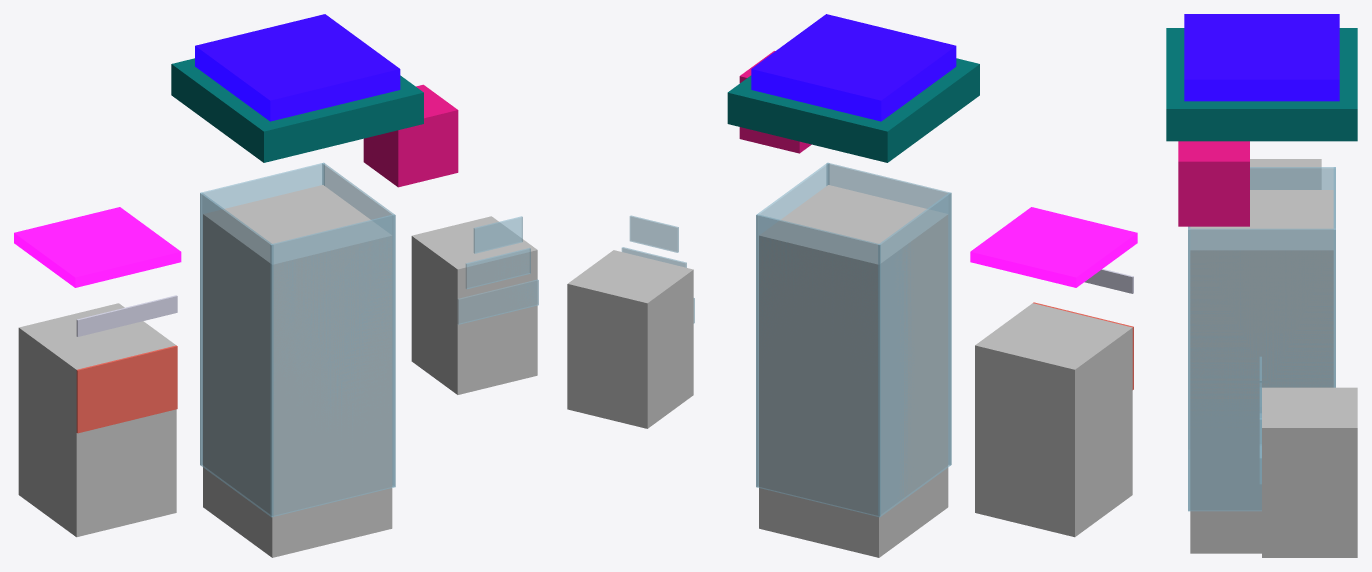
Rendered from buildings.glb.
3 views of the same model, side by side, from view 1: azimuth 30°, elevation 25°; view 2: azimuth 150°, elevation 25°; view 3: azimuth 270°, elevation 25° (orthographic). The views are drawn at different scales.
Bounding box in the file's own units: 24.65 × 22 × 8.
